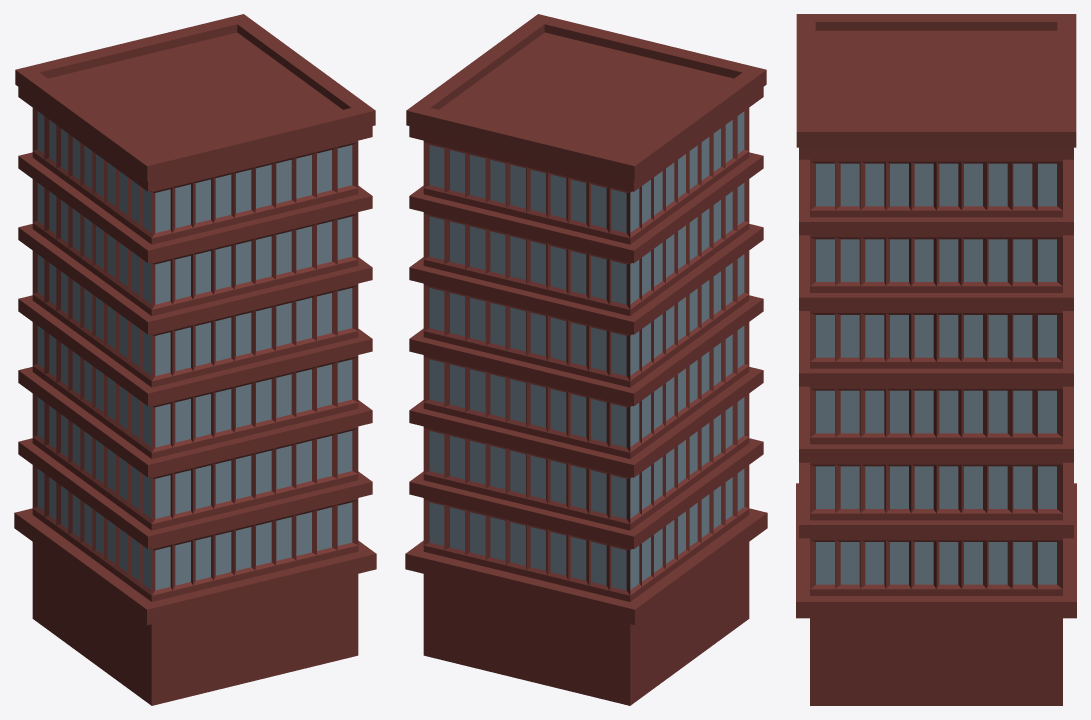
Rendered from flat 5.fbx.
The picture shows the model from 3 angles, left to right: view 1: azimuth 30°, elevation 25°; view 2: azimuth 150°, elevation 25°; view 3: azimuth 270°, elevation 25°; orthographic projection. The views are drawn at different scales.
Parts seen in each view (by area): view 1: Plane; view 2: Plane; view 3: Plane.
Part boxes in pixels (box(x1,y1,x2,y2)): Plane: box(14, 14, 376, 705); Plane: box(405, 14, 767, 705); Plane: box(796, 14, 1076, 705).
Size of the model in its own units: 222 by 506 by 222.
